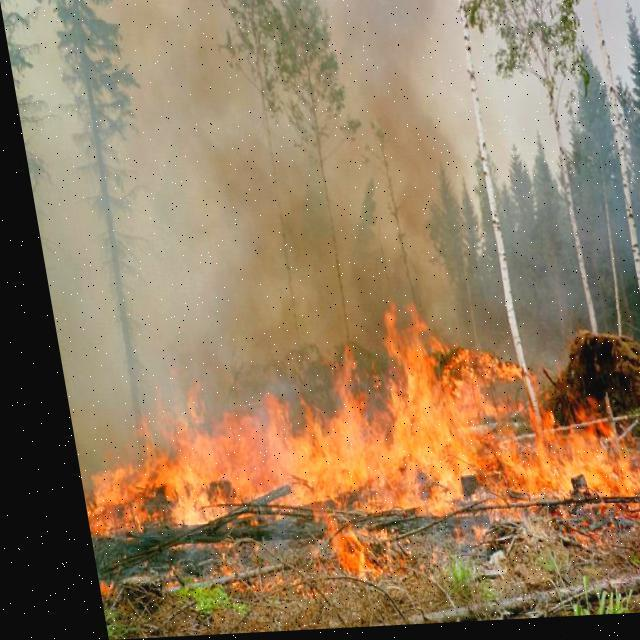Fire: (54, 303, 639, 590)
